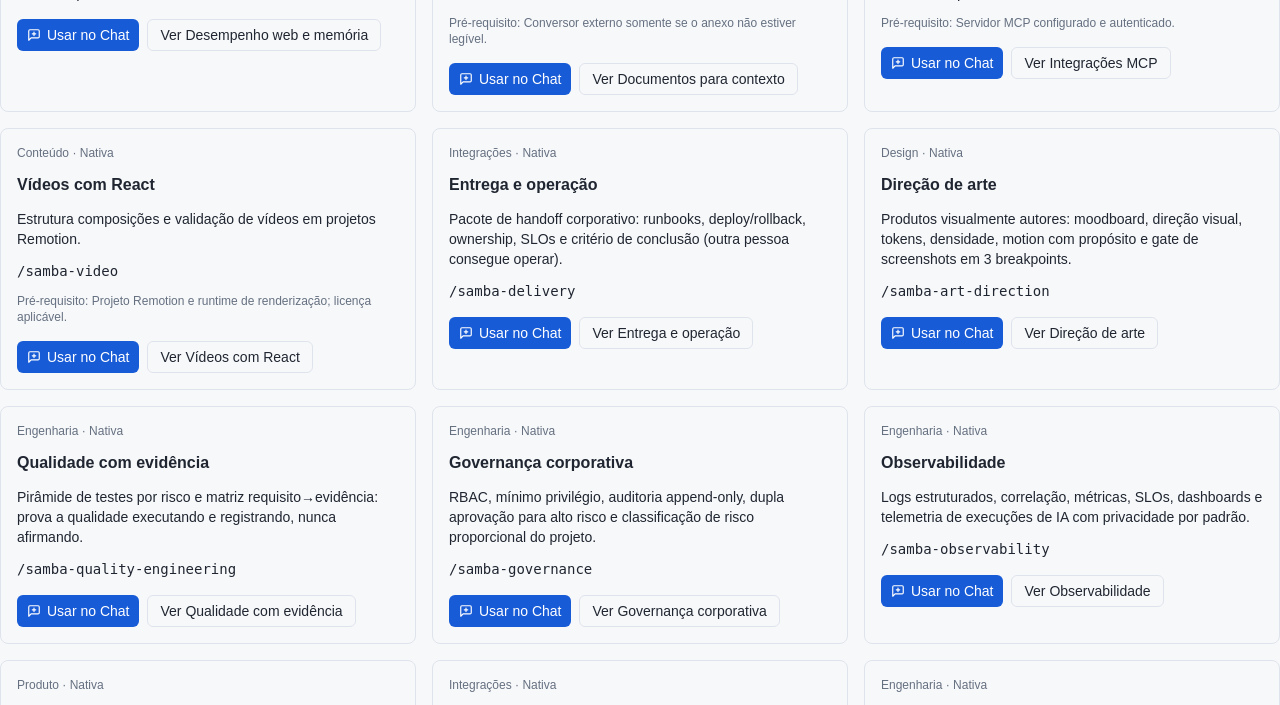
Test: shows a resource failure without pretending the content loaded
(page scrolled)
Click the button "Ver Vídeos com React". click: (230, 357)
box: [148,341,313,373]
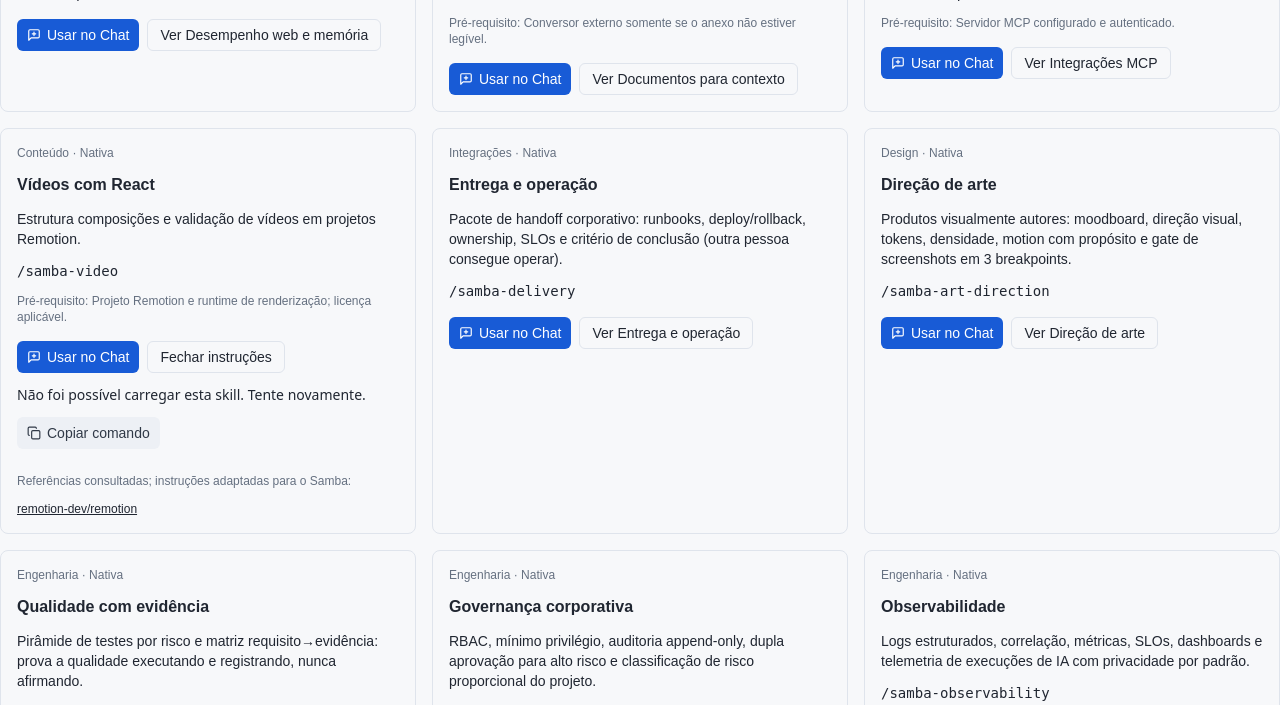
Expected: the text "Pré-requisito: Projeto Remotion" is shown, [17,293,399,325]
Result: the text "Não foi possível carregar esta skill. Tente novamente." is shown at [17,385,399,405]
